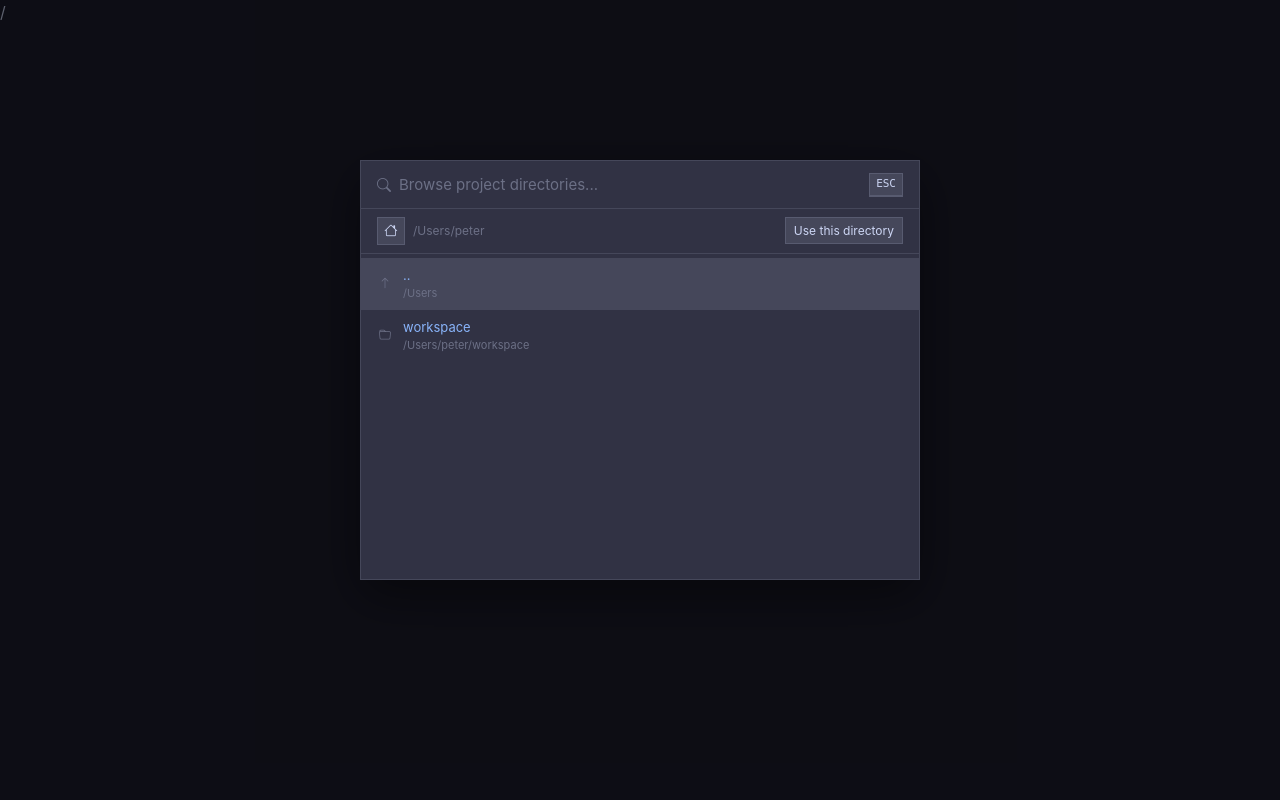
Test: CommandPalette project mode › opens a new conversation for the selected browsed directory
Click the button "Use this directory" at (844, 230), box [785,217,903,244]
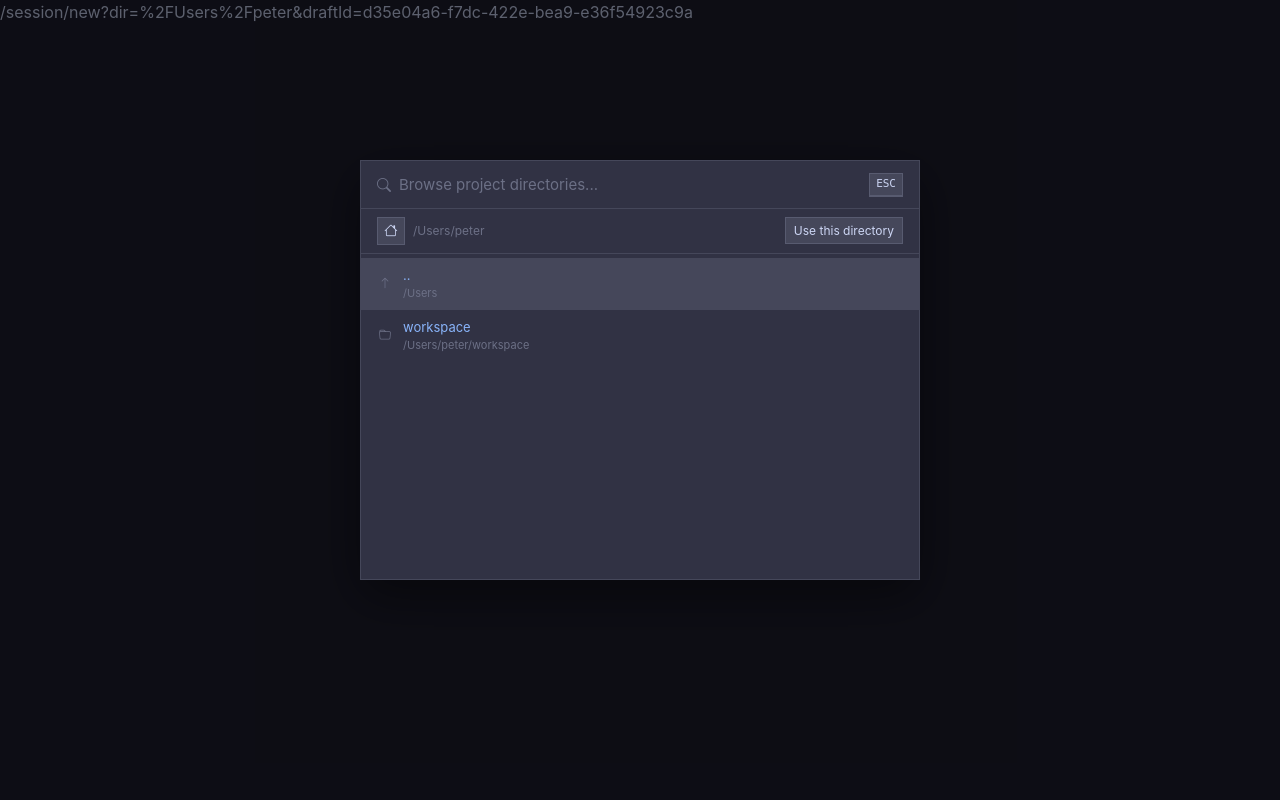
Now the text with test id "location" shows "/session/new?dir=%2FUsers%2Fpeter", box [0,2,693,22]
